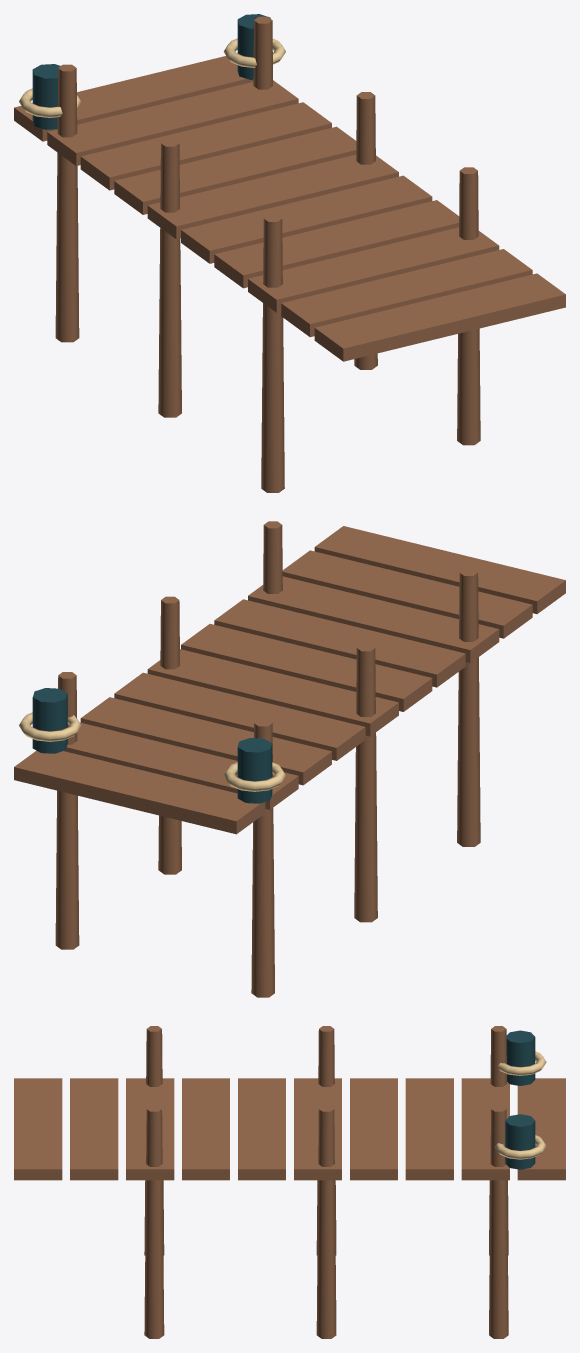
Rendered from timber-jetty.glb.
3 renders of one model, top to bottom at view 1: azimuth 30°, elevation 25°; view 2: azimuth 150°, elevation 25°; view 3: azimuth 270°, elevation 25°, orthographic. The views are drawn at different scales.
Parts seen in each view (by area): view 1: jetty-plank (×10), jetty-pile (×6), mooring-bollard (×2), mooring-rope (×2); view 2: jetty-plank (×10), jetty-pile (×6), mooring-bollard (×2), mooring-rope (×2); view 3: jetty-plank (×10), jetty-pile (×6), mooring-bollard (×2), mooring-rope (×2).
Boxes of the visible parts, box(x1,y1,x2,y2) form: jetty-plank (×10): box(14, 56, 565, 361); jetty-pile (×6): box(55, 16, 480, 492); mooring-bollard (×2): box(32, 14, 270, 129); mooring-rope (×2): box(19, 38, 285, 117); jetty-plank (×10): box(14, 526, 565, 834); jetty-pile (×6): box(55, 521, 480, 997); mooring-bollard (×2): box(32, 688, 272, 803); mooring-rope (×2): box(19, 712, 285, 791); jetty-plank (×10): box(14, 1078, 565, 1180); jetty-pile (×6): box(144, 1026, 508, 1338); mooring-bollard (×2): box(505, 1030, 535, 1169); mooring-rope (×2): box(495, 1051, 546, 1159).
Bounding box in the file's own units: 5.82 × 5.8 × 12.82.
